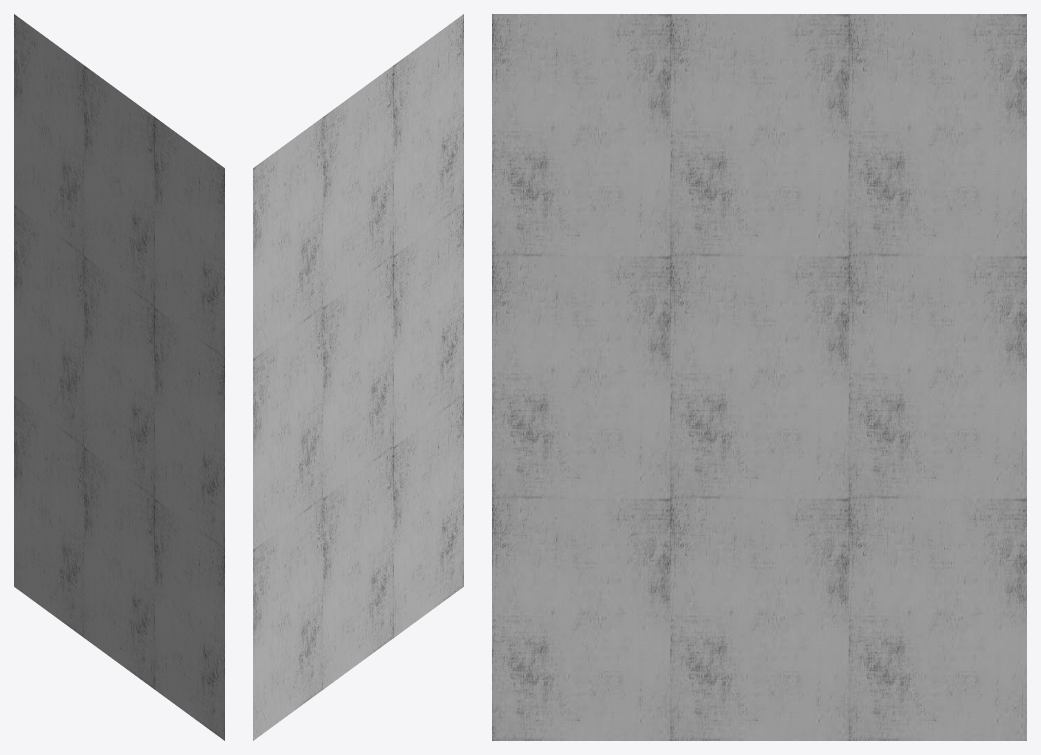
Rendered from Wall001.FBX.
3 renders of one model, left to right at view 1: azimuth 30°, elevation 25°; view 2: azimuth 150°, elevation 25°; view 3: azimuth 270°, elevation 25°, orthographic. The views are drawn at different scales.
Parts seen in each view (by area): view 1: Wall001; view 2: Wall001; view 3: Wall001.
Part boxes in pixels (x1,y1,x2,y2): Wall001: (14, 14, 224, 740); Wall001: (253, 14, 463, 740); Wall001: (492, 14, 1026, 740).
Size of the model in its own units: 2.19e-05 by 300 by 200.
